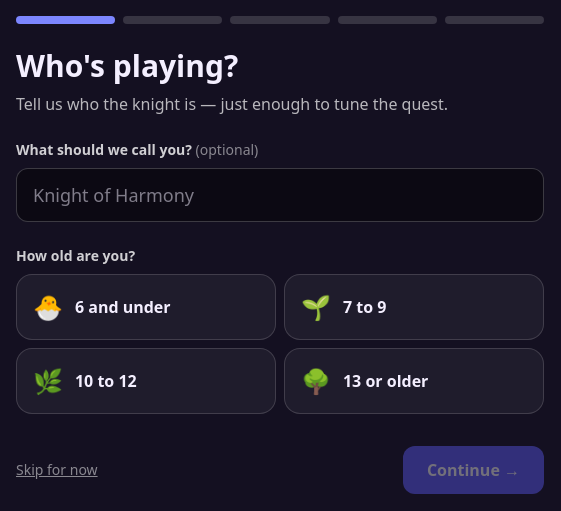
it: OnboardingFlow › requires an age band before continuing
This screenshot has width=561, height=511.
Expected: the heading "Who's playing?" is shown, [16,45,238,86]
Expected: the button "Continue →" is disabled, [403,446,544,494]
Click the text "7 to 9": (365, 307) [343,295,386,319]
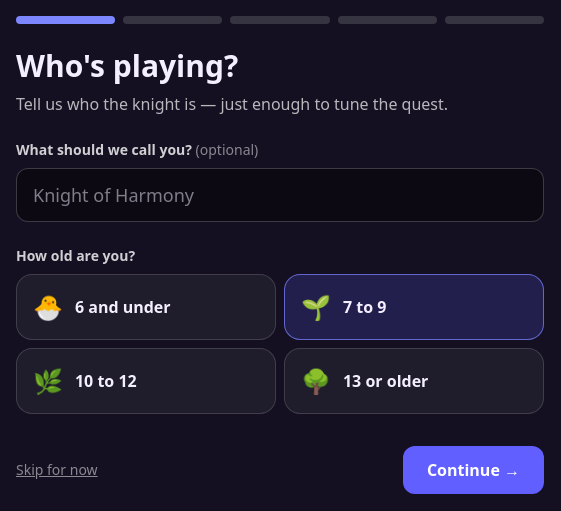
Expected: the button "Continue →" is enabled, [403,446,544,494]
